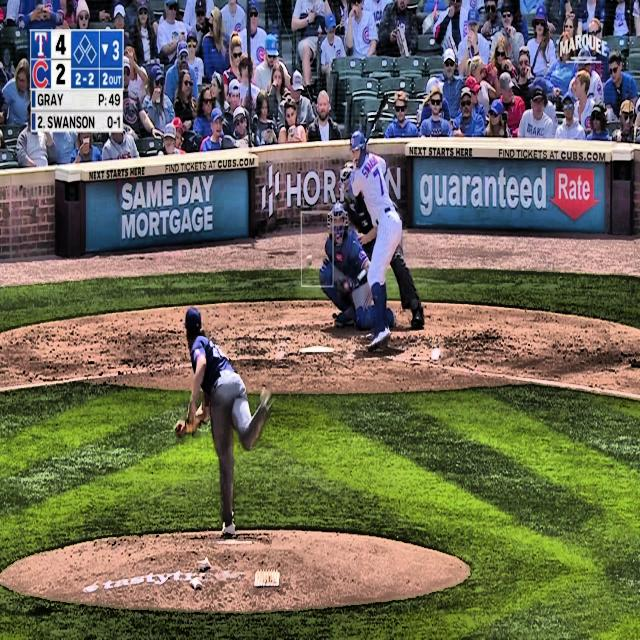baseball: (306, 255, 313, 268)
